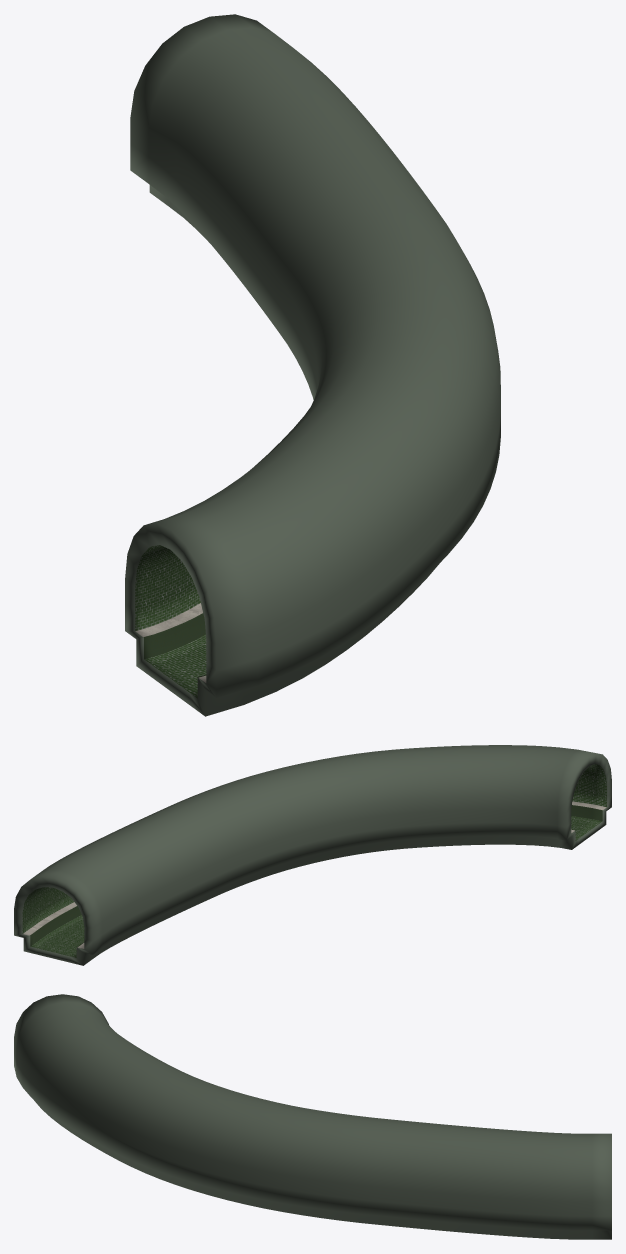
File: SewerModule_SlowerTurn_1_001.fbx
3 views of the same model, one above another, from view 1: azimuth 30°, elevation 25°; view 2: azimuth 150°, elevation 25°; view 3: azimuth 270°, elevation 25° (orthographic). The views are drawn at different scales.
Visible parts, largest first — view 1: Modular.002; view 2: Modular.002; view 3: Modular.002.
Boxes of the visible parts, left/top/right/bottom form: Modular.002: left=125, top=14, right=500, bottom=716; Modular.002: left=14, top=745, right=611, bottom=965; Modular.002: left=14, top=994, right=611, bottom=1239.
Bounding box in the file's own units: 4113 × 1001 × 6313.
